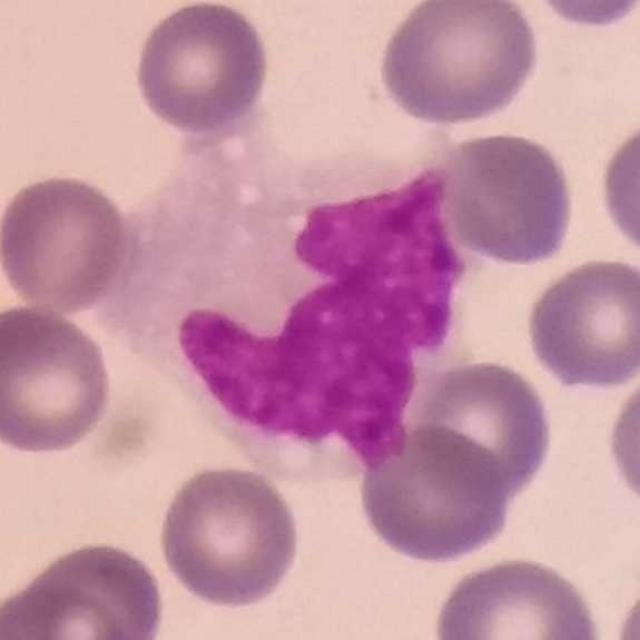mono: (82, 114, 490, 485)
